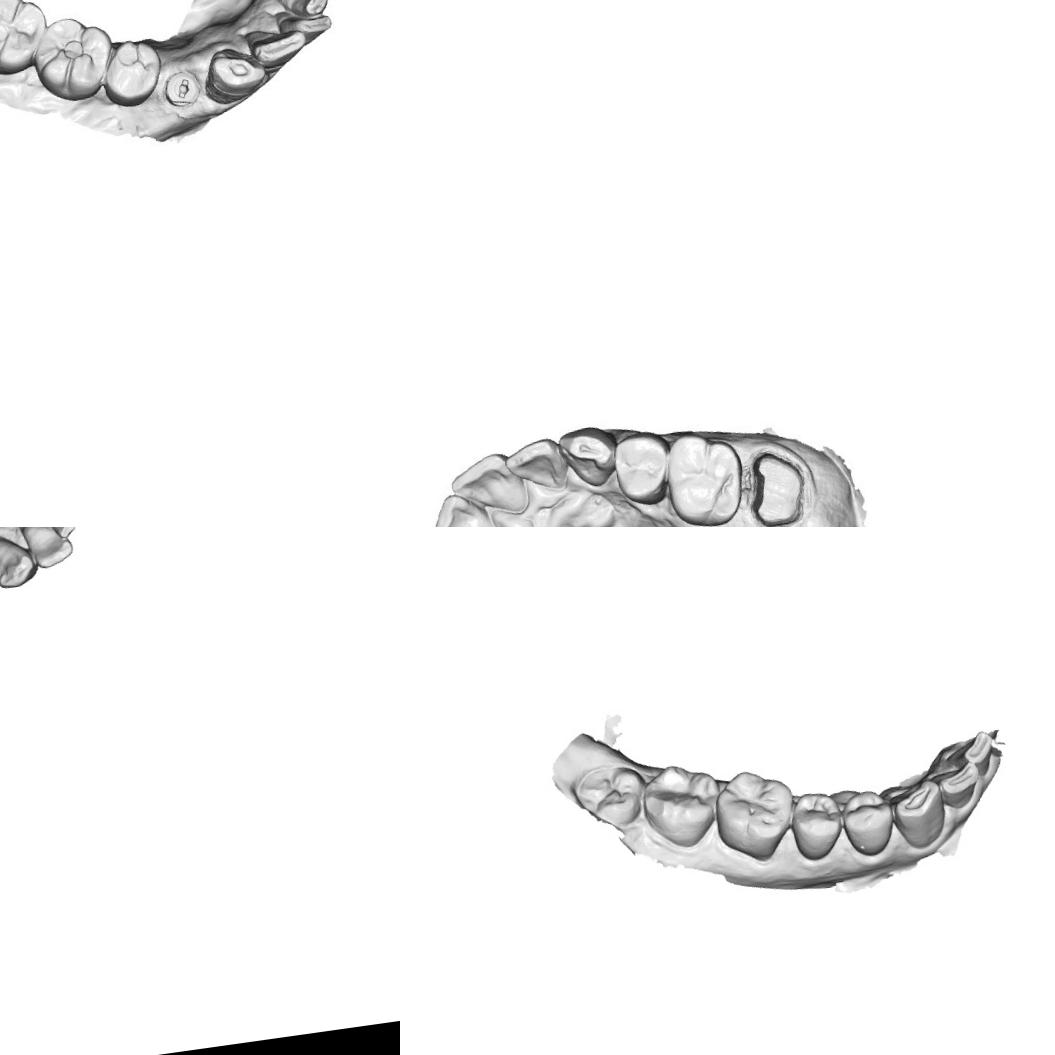canine: (888, 776, 950, 854), (556, 423, 616, 490), (208, 42, 268, 104), (0, 528, 36, 592)
crown: (745, 445, 821, 527)
implant_minus: (159, 64, 209, 117)
incisor: (446, 450, 530, 522), (506, 438, 569, 504), (943, 727, 999, 782), (243, 22, 304, 70), (934, 758, 986, 812), (424, 492, 504, 527), (19, 527, 79, 573), (279, 5, 333, 45), (273, 0, 334, 21), (27, 527, 89, 545)
molar: (708, 764, 804, 870), (660, 425, 747, 527), (637, 757, 726, 854), (29, 13, 114, 107), (570, 759, 652, 832), (0, 0, 49, 83)
premolar: (783, 787, 848, 863), (98, 32, 164, 105), (837, 787, 900, 862), (611, 432, 672, 506)
